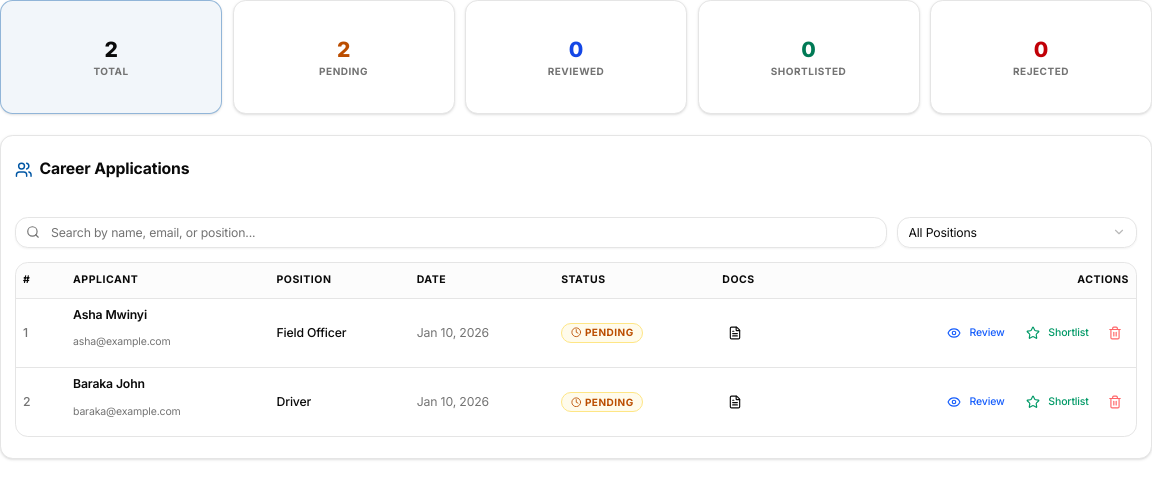
HRApplicationsSubtab › filters by search across name, email and position
Step 1. Type "driver" into the field with placeholder "Search by name, email, or position..." → (451, 232), box x1=15 y1=216 x2=886 y2=248
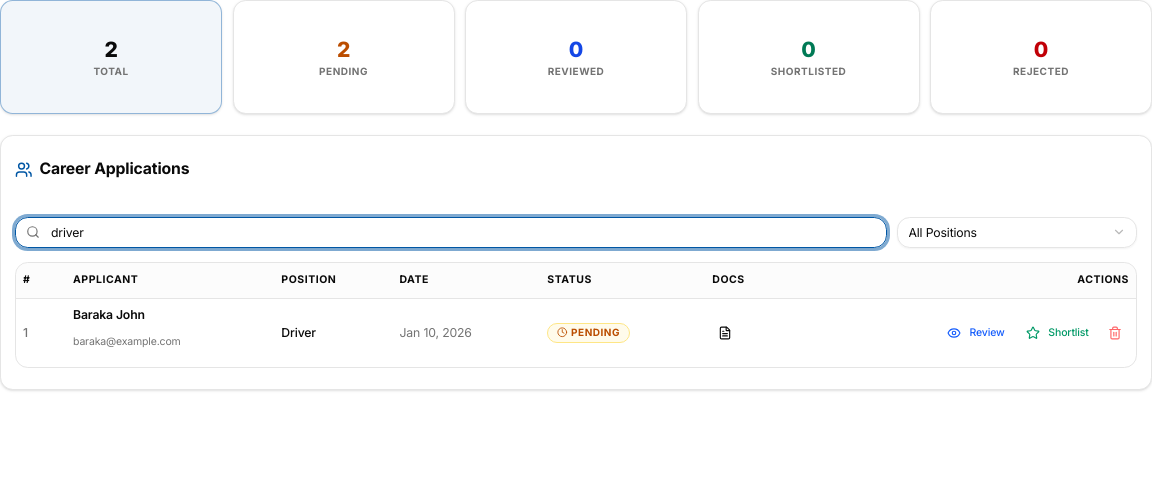
Expected: the text "Baraka John" is shown, x1=73 y1=306 x2=145 y2=322
Expected: the text "Asha Mwinyi" is gone
